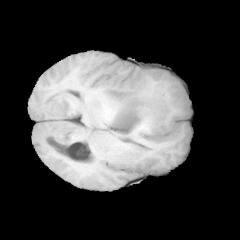glioma: (104, 71, 173, 138)
